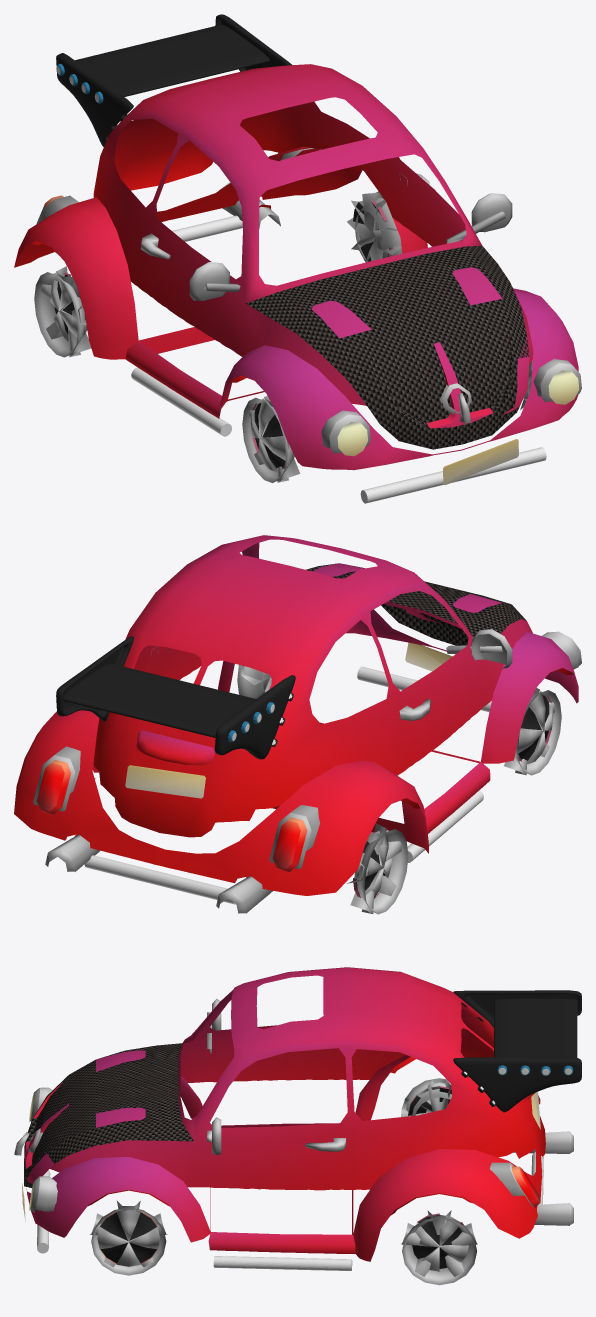
File: Car_1.fbx
The picture shows the model from 3 angles, top to bottom: view 1: azimuth 30°, elevation 25°; view 2: azimuth 150°, elevation 25°; view 3: azimuth 270°, elevation 25°; orthographic projection. The views are drawn at different scales.
Visible parts, largest first — view 1: Car_1, CarbonHood, Spoiler, OldPart.001, Neon.003, Wheel_1A_R.R.001, Wheel_1A_R.L.001, Wheel_1A_F.R, Wheel_1A_F.R.001, Wheel_1A_R.R; view 2: Car_1, Spoiler, CarbonHood, Neon.003, Wheel_1A_R.R.001, Wheel_1A_F.R, Wheel_1A_F.R.001, Wheel_1A_R.R, OldPart.001, Wheel_1A_F.L.001; view 3: Car_1, CarbonHood, Spoiler, Wheel_1A_F.L, Wheel_1A_R.L.001, Neon.003, OldPart.001, Wheel_1A_R.L, Wheel_1A_F.L.001, Wheel_1A_R.R.001.
Boxes of the visible parts, x1=… form: Car_1: x1=14, y1=64, x2=581, y2=484; CarbonHood: x1=246, y1=245, x2=529, y2=449; Spoiler: x1=56, y1=14, x2=292, y2=146; OldPart.001: x1=312, y1=267, x2=529, y2=428; Neon.003: x1=131, y1=215, x2=546, y2=503; Wheel_1A_R.R.001: x1=34, y1=266, x2=91, y2=357; Wheel_1A_R.L.001: x1=347, y1=191, x2=402, y2=262; Wheel_1A_F.R: x1=250, y1=400, x2=285, y2=471; Wheel_1A_F.R.001: x1=242, y1=395, x2=300, y2=482; Wheel_1A_R.R: x1=50, y1=272, x2=86, y2=341; Car_1: x1=14, y1=535, x2=581, y2=913; Spoiler: x1=56, y1=636, x2=295, y2=759; CarbonHood: x1=306, y1=563, x2=526, y2=645; Neon.003: x1=84, y1=666, x2=491, y2=904; Wheel_1A_R.R.001: x1=346, y1=823, x2=408, y2=914; Wheel_1A_F.R: x1=518, y1=692, x2=553, y2=763; Wheel_1A_F.R.001: x1=504, y1=688, x2=561, y2=775; Wheel_1A_R.R: x1=353, y1=831, x2=392, y2=898; OldPart.001: x1=313, y1=563, x2=501, y2=623; Wheel_1A_F.L.001: x1=237, y1=665, x2=271, y2=698; Car_1: x1=22, y1=967, x2=573, y2=1261; CarbonHood: x1=24, y1=1043, x2=193, y2=1187; Spoiler: x1=453, y1=990, x2=581, y2=1112; Wheel_1A_F.L: x1=97, y1=1210, x2=159, y2=1266; Wheel_1A_R.L.001: x1=401, y1=1210, x2=477, y2=1285; Neon.003: x1=37, y1=1152, x2=543, y2=1270; OldPart.001: x1=14, y1=1050, x2=145, y2=1184; Wheel_1A_R.L: x1=412, y1=1213, x2=468, y2=1271; Wheel_1A_F.L.001: x1=90, y1=1200, x2=167, y2=1275; Wheel_1A_R.R.001: x1=401, y1=1078, x2=451, y2=1116.
Size of the model in its own units: 2.29 by 1.87 by 3.83.
Materials: 7 (3 with a texture image).
